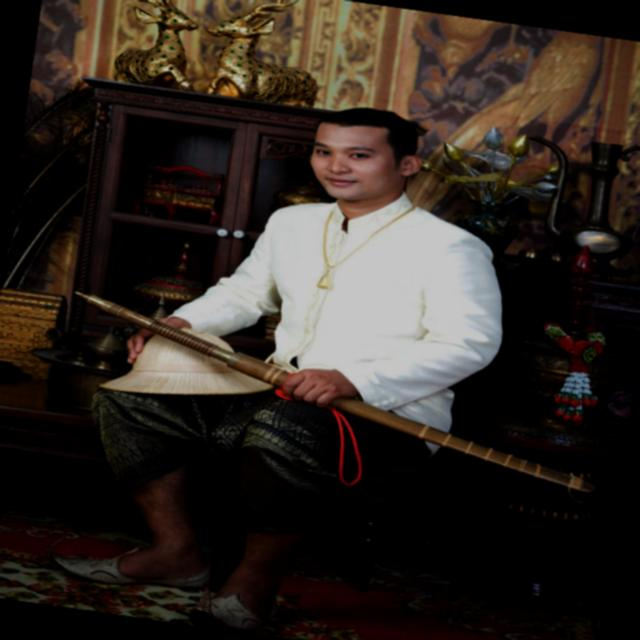long sword: (55, 282, 620, 500)
